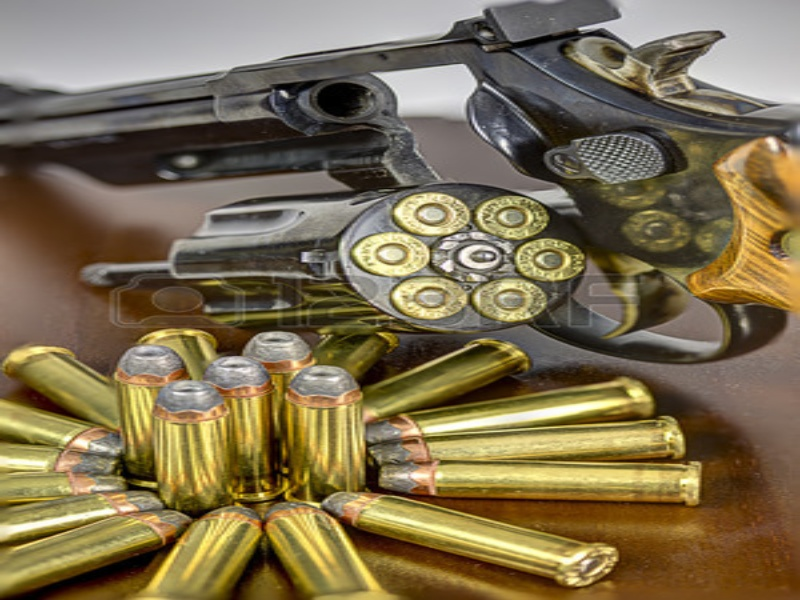gun: (6, 11, 800, 378)
